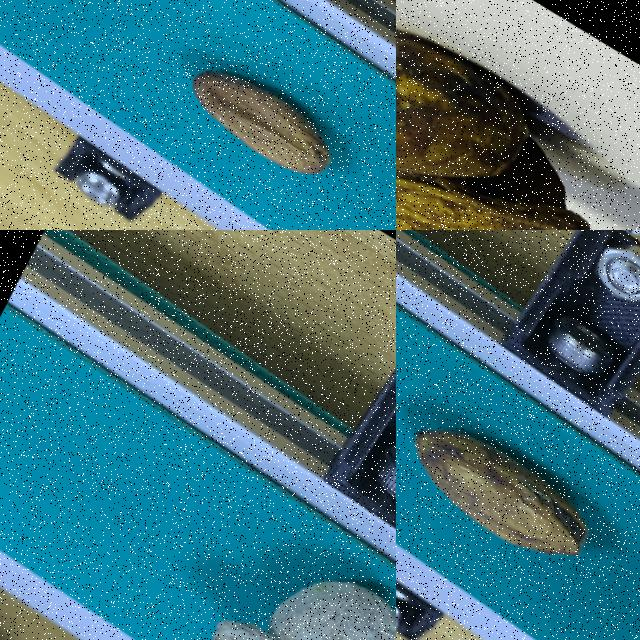Agglomerated_cocoabeans: (114, 434, 395, 639), (396, 0, 639, 229)
Fine_cocoabeans: (396, 308, 639, 639), (63, 0, 395, 229)
